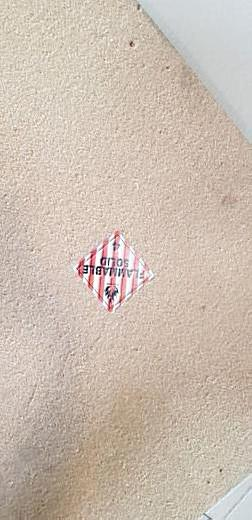flammable-solid: (74, 232, 156, 312)
